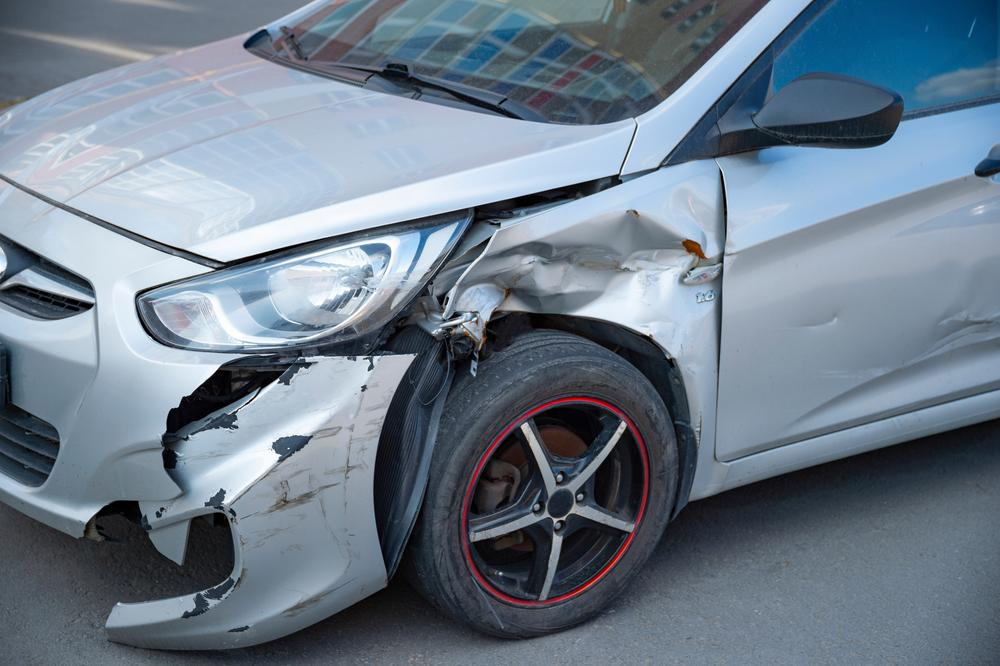crack: (159, 353, 298, 494)
dent: (852, 252, 1000, 376)
scratch: (175, 354, 410, 635), (451, 186, 721, 354)
